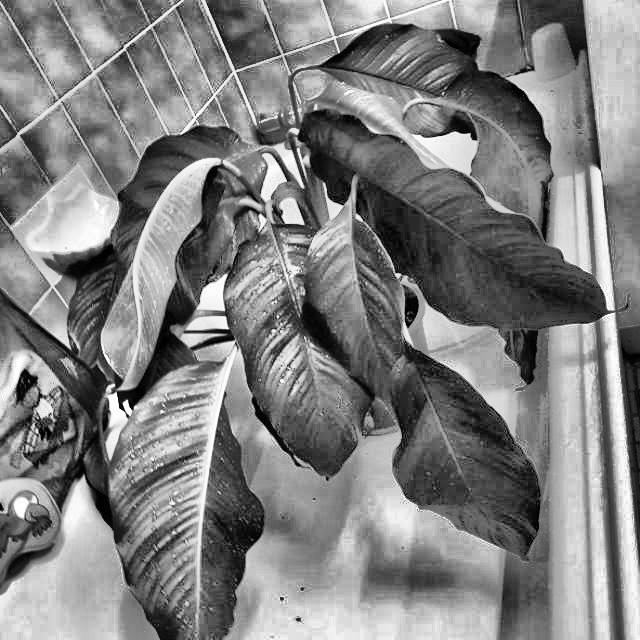plants: (104, 15, 622, 639), (270, 18, 551, 138), (488, 312, 542, 389)
